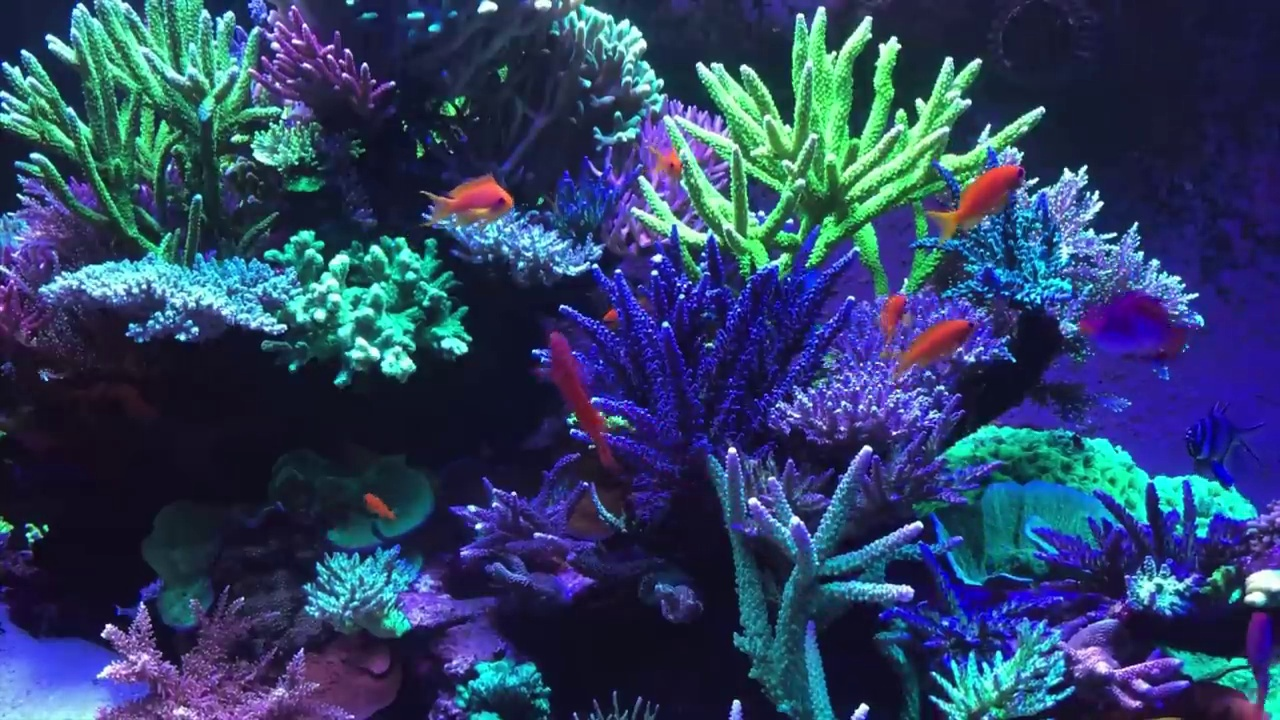fish: (545, 331, 617, 472), (1079, 291, 1189, 365), (927, 167, 1025, 240), (892, 319, 977, 386), (421, 173, 513, 227), (876, 294, 904, 357), (362, 489, 398, 524), (653, 148, 683, 177)
